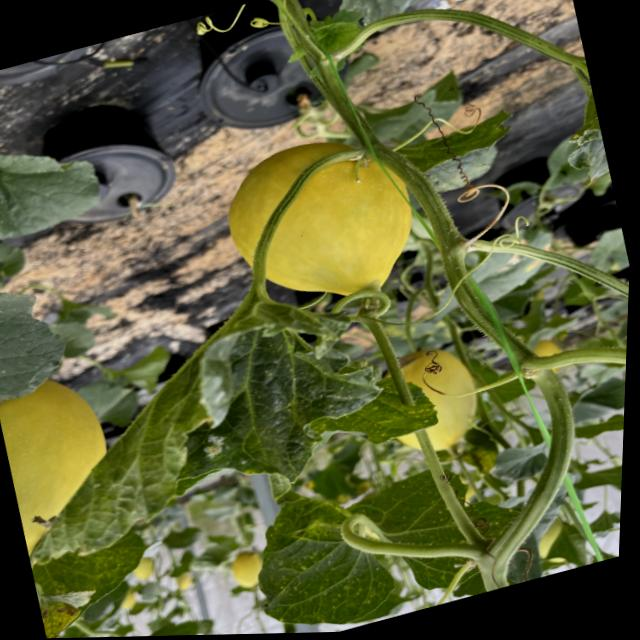CMV: (292, 367, 451, 463)
SLCV: (0, 266, 399, 565)
alternaria leaf blight: (32, 565, 111, 639)
downy mildew: (221, 479, 407, 635)
healthy: (0, 276, 83, 405)
